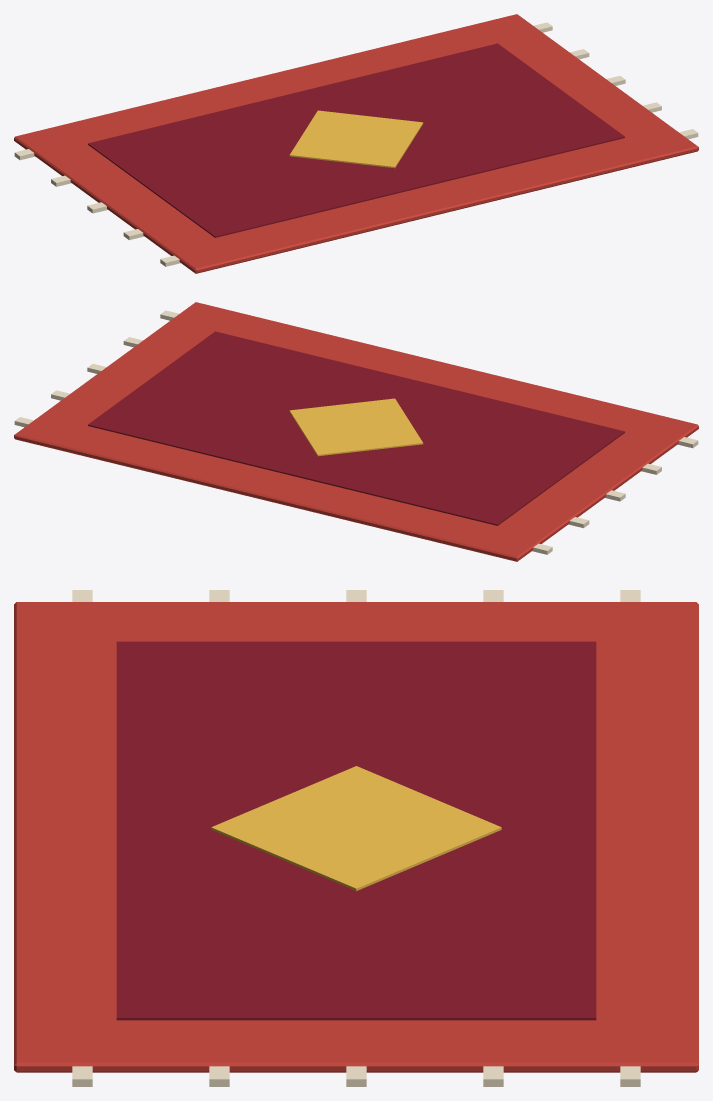
File: PR_Decor_Hali.fbx
3 views of the same model, one above another, from view 1: azimuth 30°, elevation 25°; view 2: azimuth 150°, elevation 25°; view 3: azimuth 270°, elevation 25° (orthographic). The views are drawn at different scales.
Parts seen in each view (by area): view 1: PR_Decor_Hali; view 2: PR_Decor_Hali; view 3: PR_Decor_Hali.
Boxes of the visible parts, bbox=[...] form: PR_Decor_Hali: bbox=[14, 14, 698, 273]; PR_Decor_Hali: bbox=[14, 302, 698, 561]; PR_Decor_Hali: bbox=[14, 590, 698, 1086].
Bounding box in the file's own units: 1.69 × 0.024 × 1.
Materials: 1 (1 with a texture image).
